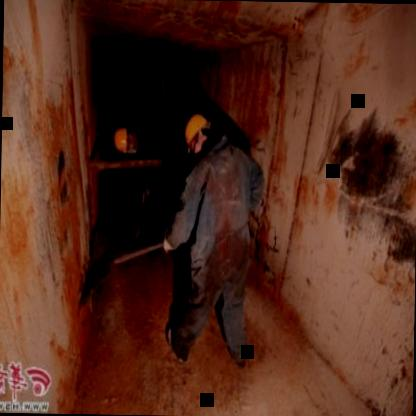helmet: (184, 110, 212, 158), (110, 123, 144, 156)
